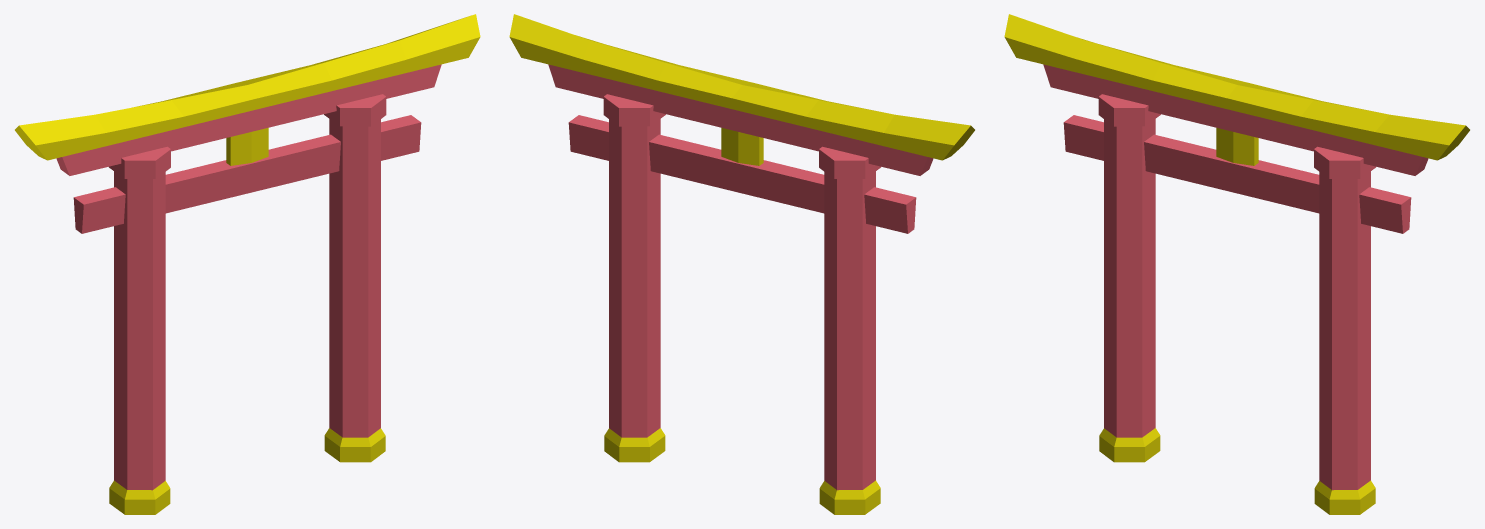
File: gate-japan.fbx
3 renders of one model, left to right at view 1: azimuth 30°, elevation 25°; view 2: azimuth 150°, elevation 25°; view 3: azimuth 330°, elevation 25°, orthographic.
Parts seen in each view (by area): view 1: gate-japan; view 2: gate-japan; view 3: gate-japan.
Part boxes in pixels (left/top/right/bottom): gate-japan: left=15, top=14, right=480, bottom=514; gate-japan: left=509, top=14, right=974, bottom=514; gate-japan: left=1004, top=14, right=1469, bottom=514.
Bounding box in the file's own units: 6.24 × 5.32 × 0.7521.
